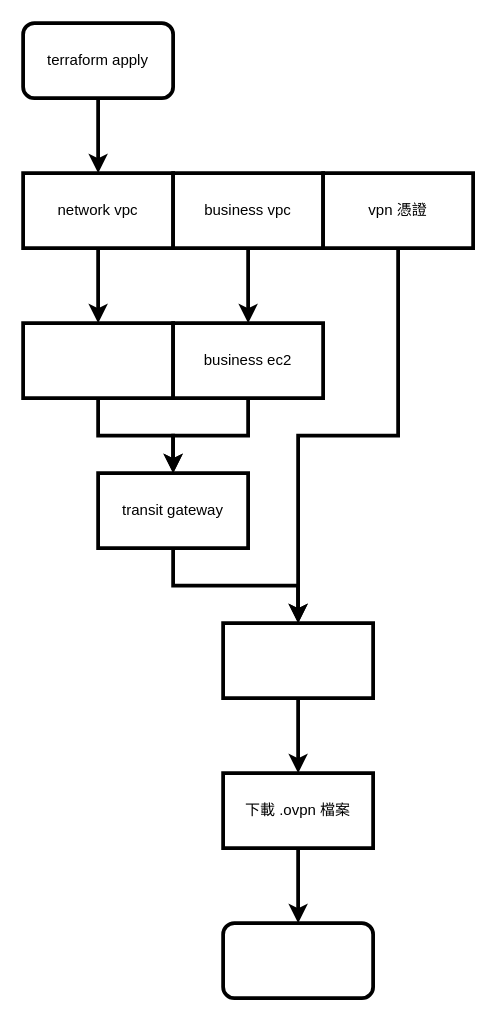
The diagram is 496 pixels wide and 1021 high, and some of its shapes have lost their labels. Each missing label, with the centre of its shape:
"client vpn" belongs at pixel 297 660.
"network ec2" belongs at pixel 97 360.
"terraform 結束" belongs at pixel 297 960.
